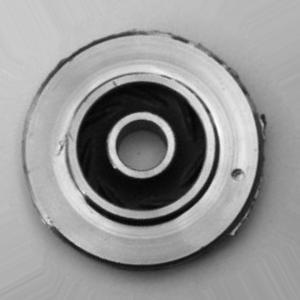casting_with_burr: (21, 29, 269, 271)
crack: (52, 126, 80, 164)
pit: (227, 162, 248, 188)
scratch: (106, 76, 125, 94)
